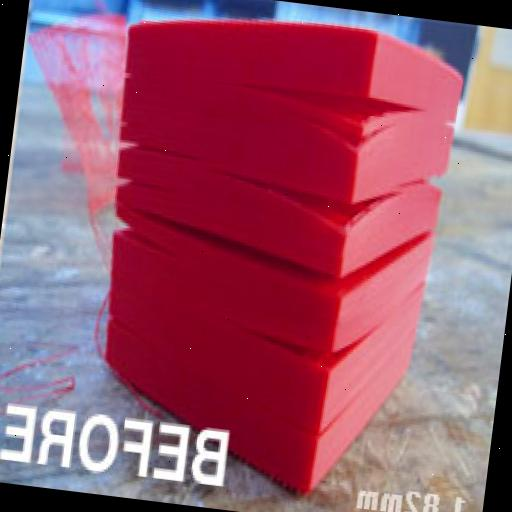cracks: (217, 62, 428, 172), (232, 172, 417, 266), (235, 308, 396, 404), (68, 190, 212, 264), (106, 129, 194, 174)
